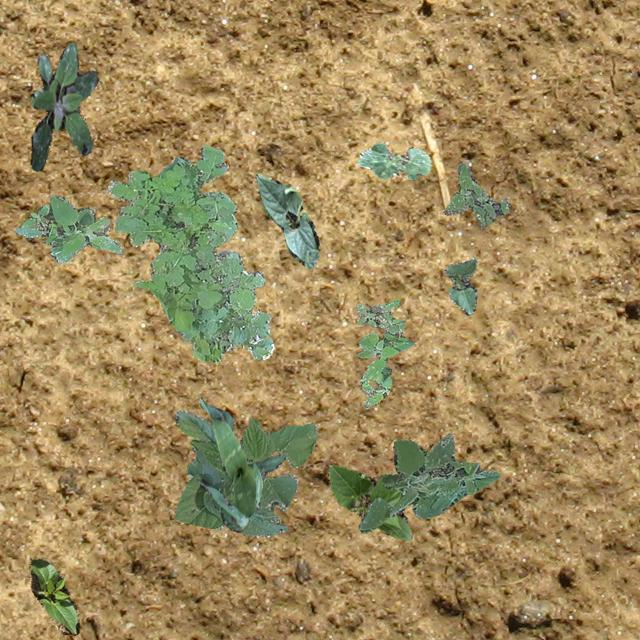crop: (174, 409, 316, 536), (195, 396, 284, 532), (326, 464, 411, 540), (254, 172, 318, 268), (28, 556, 78, 634), (356, 140, 429, 178), (442, 256, 476, 314)
weed: (105, 144, 272, 362), (358, 432, 498, 532), (29, 41, 98, 170), (15, 194, 121, 262), (356, 298, 412, 408), (442, 162, 510, 228)
